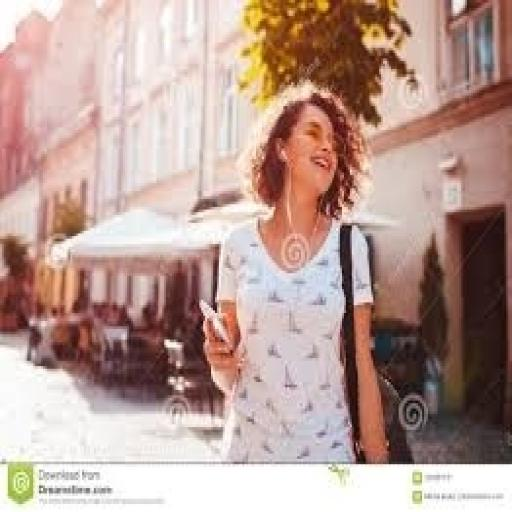texting: (197, 80, 391, 464)
